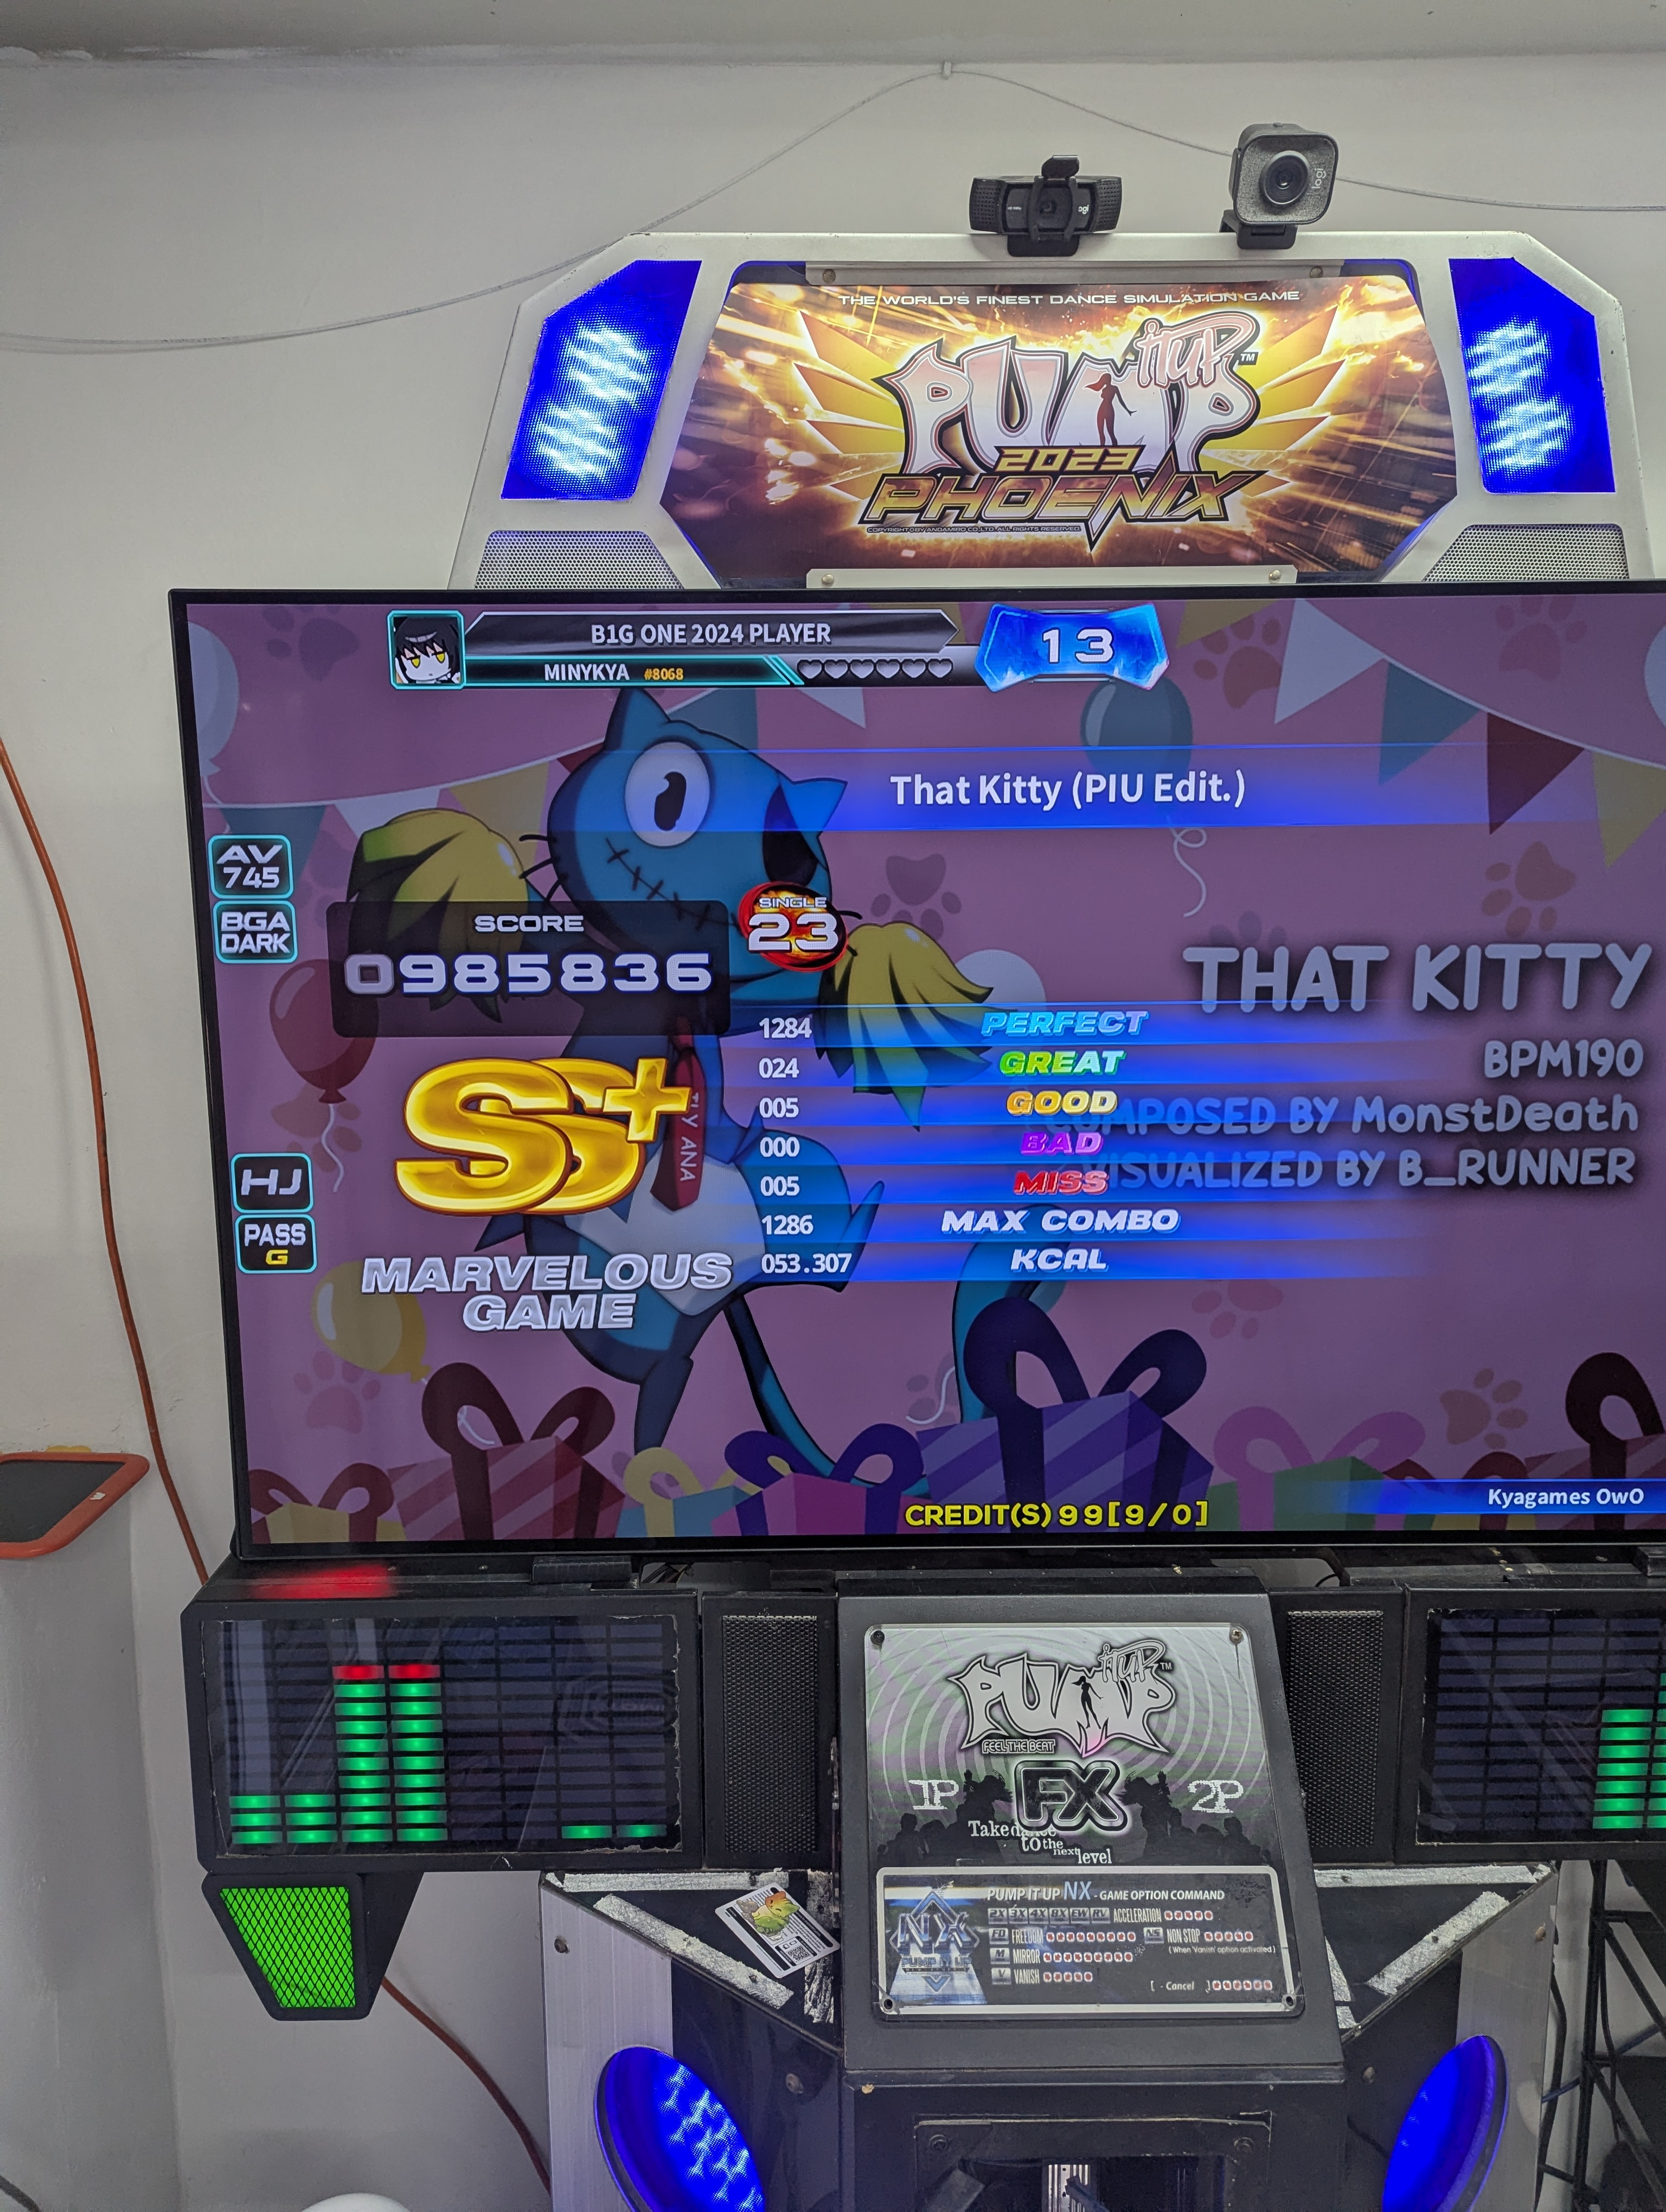difficulty: (733, 880, 871, 981)
fullscore: (172, 572, 1642, 1535)
rank: (396, 1040, 690, 1238)
score: (348, 876, 718, 1040)
song_name: (875, 729, 1290, 846)
